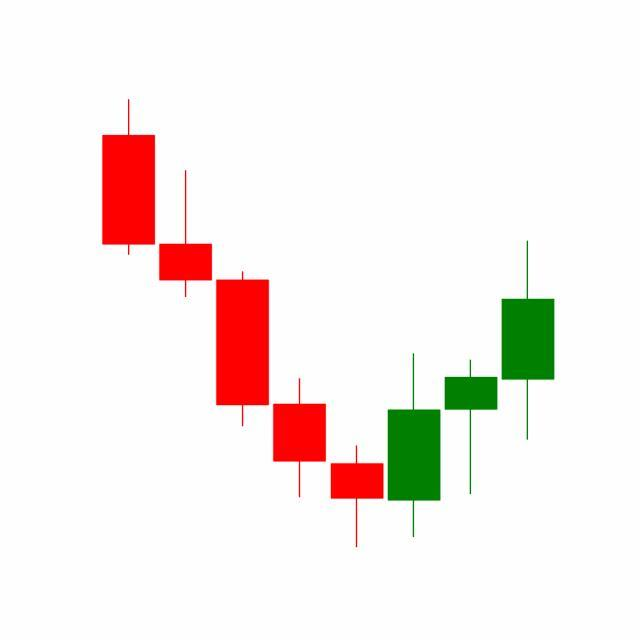Three Outside Up-Down: (328, 351, 500, 549)
